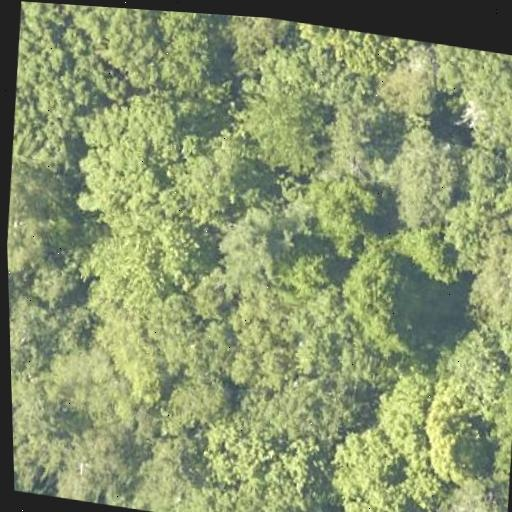tree-top: (70, 206, 232, 413), (229, 291, 383, 441), (10, 353, 136, 508), (72, 92, 180, 232), (7, 28, 96, 185), (194, 415, 336, 512), (83, 6, 217, 100), (375, 116, 473, 240), (267, 150, 388, 246), (236, 61, 334, 178), (331, 239, 417, 355), (162, 129, 251, 236), (325, 419, 427, 512), (427, 318, 512, 422), (370, 366, 451, 473), (5, 156, 72, 276), (461, 195, 512, 346), (368, 37, 448, 129), (8, 269, 76, 375), (134, 424, 215, 512), (422, 400, 498, 487), (453, 47, 512, 151), (293, 22, 404, 76), (208, 212, 284, 290), (155, 360, 233, 434), (272, 238, 340, 306), (203, 14, 300, 61), (397, 220, 457, 281), (430, 472, 511, 512), (19, 1, 92, 38)
